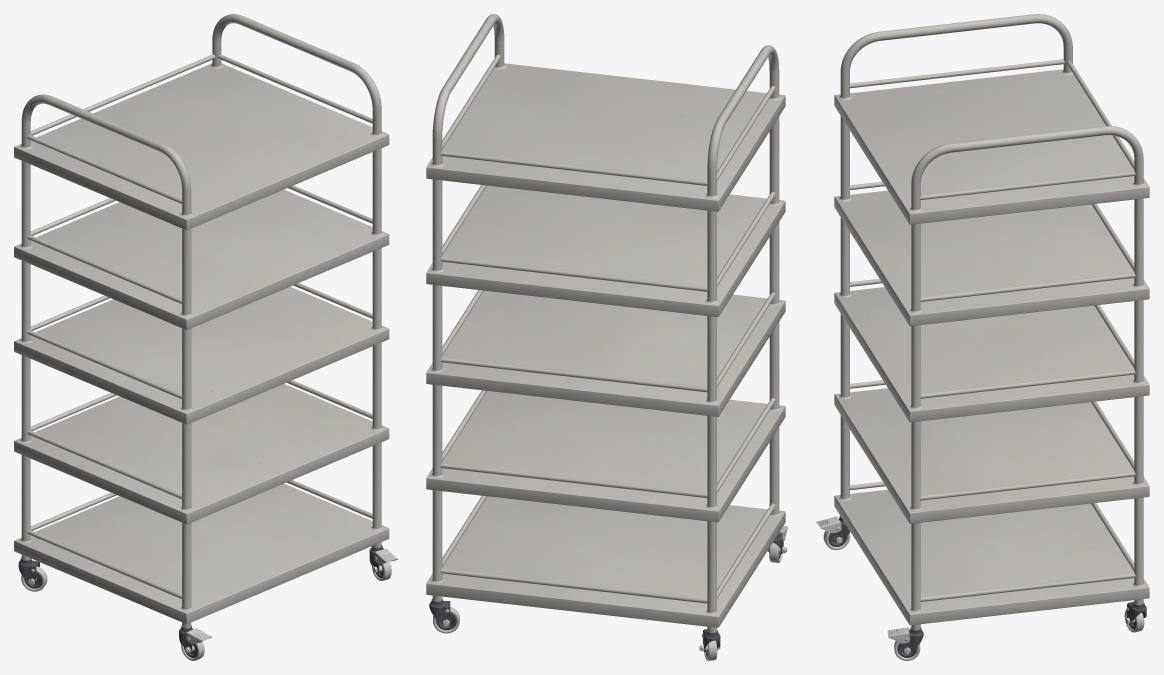
The model's file is layered_trolley.fbx.
3 views of the same model, side by side, from view 1: azimuth 30°, elevation 25°; view 2: azimuth 150°, elevation 25°; view 3: azimuth 270°, elevation 25° (orthographic). The views are drawn at different scales.
Visible parts, largest first — view 1: KB3D_ECE_BldgIntHallway_A_MetalWheelRackB; view 2: KB3D_ECE_BldgIntHallway_A_MetalWheelRackB; view 3: KB3D_ECE_BldgIntHallway_A_MetalWheelRackB.
Boxes of the visible parts, box(x1,y1,x2,y2) form: KB3D_ECE_BldgIntHallway_A_MetalWheelRackB: box(14, 14, 397, 660); KB3D_ECE_BldgIntHallway_A_MetalWheelRackB: box(426, 14, 787, 660); KB3D_ECE_BldgIntHallway_A_MetalWheelRackB: box(816, 14, 1149, 660).
Size of the model in its own units: 96.09 by 157 by 92.59.
